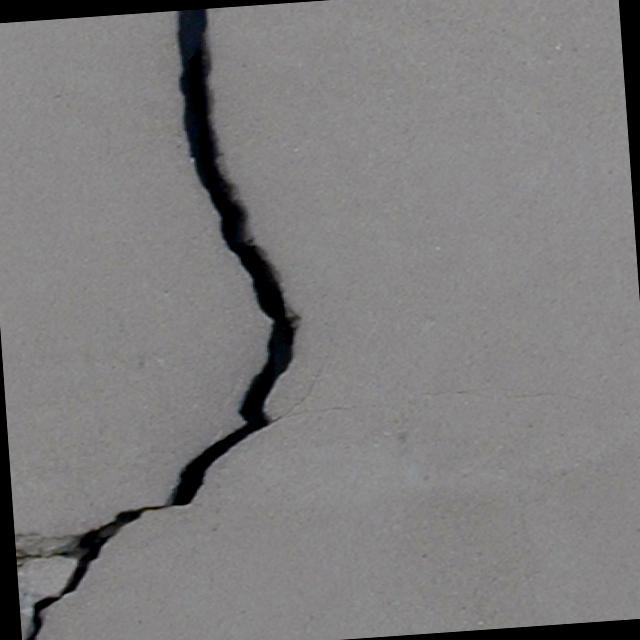crack: (0, 3, 325, 640)
